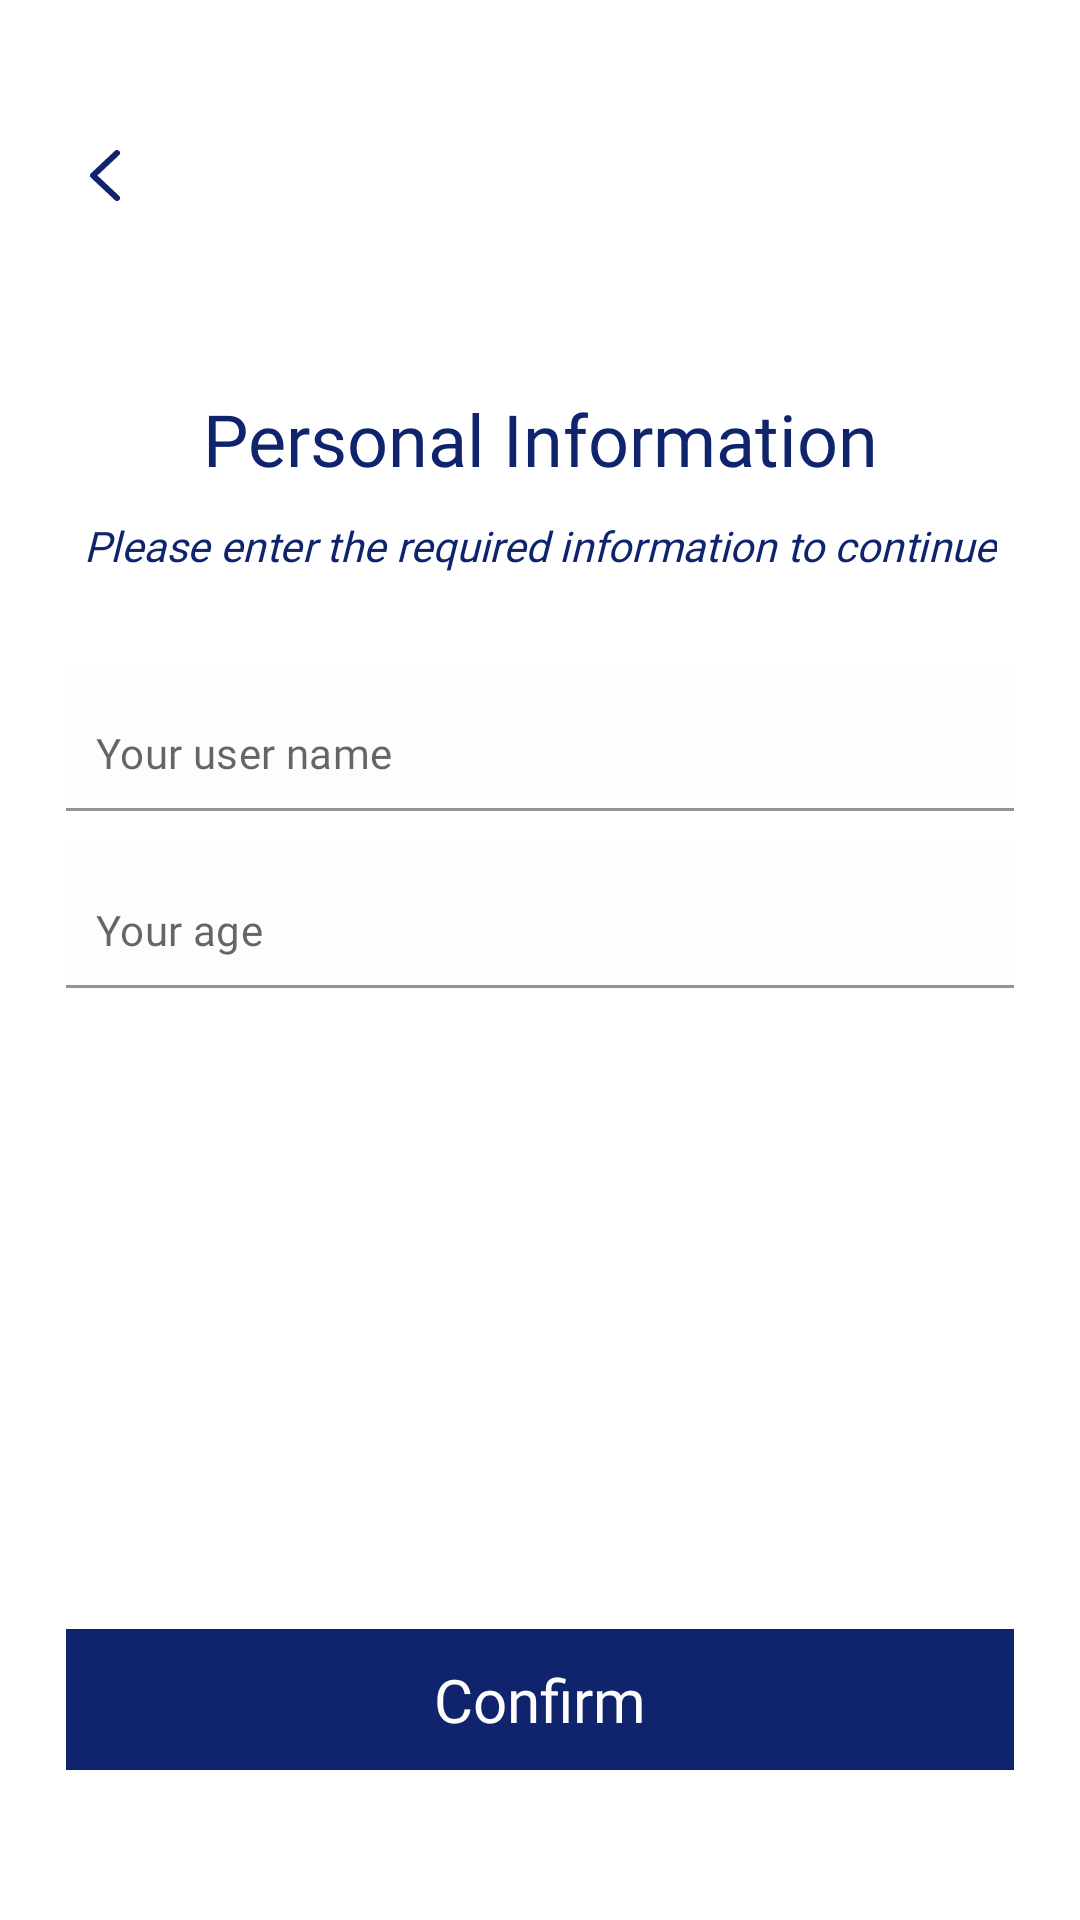

Point at icon controls on the screen. Image size 1080 × 1920, points as point (x, y).
back: point (105, 175)
